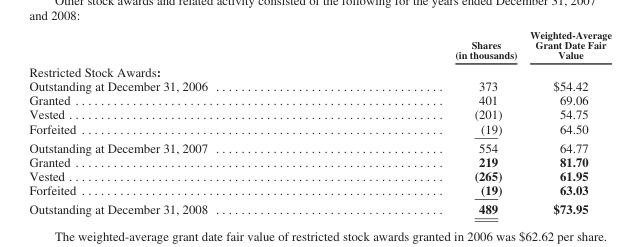table: (28, 28, 610, 215)
table column: (28, 28, 330, 215), (330, 28, 522, 215), (522, 28, 610, 215)
table column header: (28, 28, 610, 62)
table projected row header: (28, 62, 610, 79)
table row: (28, 28, 610, 62), (28, 62, 610, 79), (28, 137, 610, 154), (28, 198, 610, 215), (28, 121, 610, 137), (28, 182, 610, 198), (28, 79, 610, 93), (28, 93, 610, 107), (28, 107, 610, 121), (28, 154, 610, 168), (28, 168, 610, 182)
